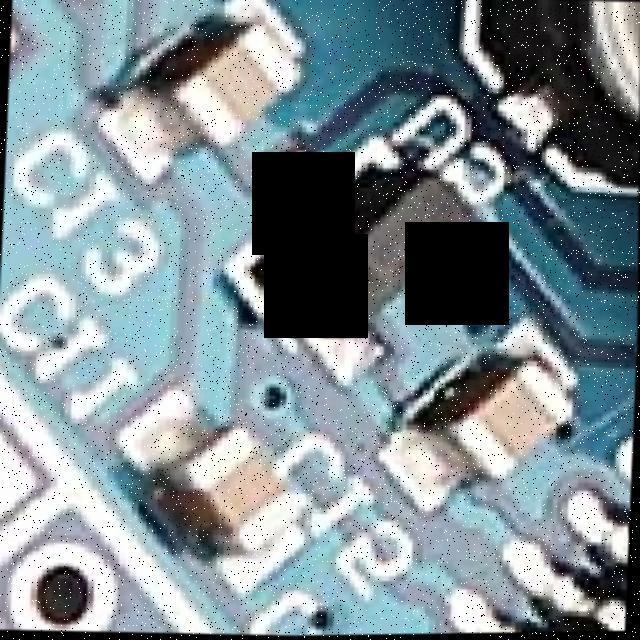4439: (266, 154, 466, 341)
capacitor 1V5: (140, 14, 301, 153), (167, 425, 316, 563), (434, 366, 571, 490)
